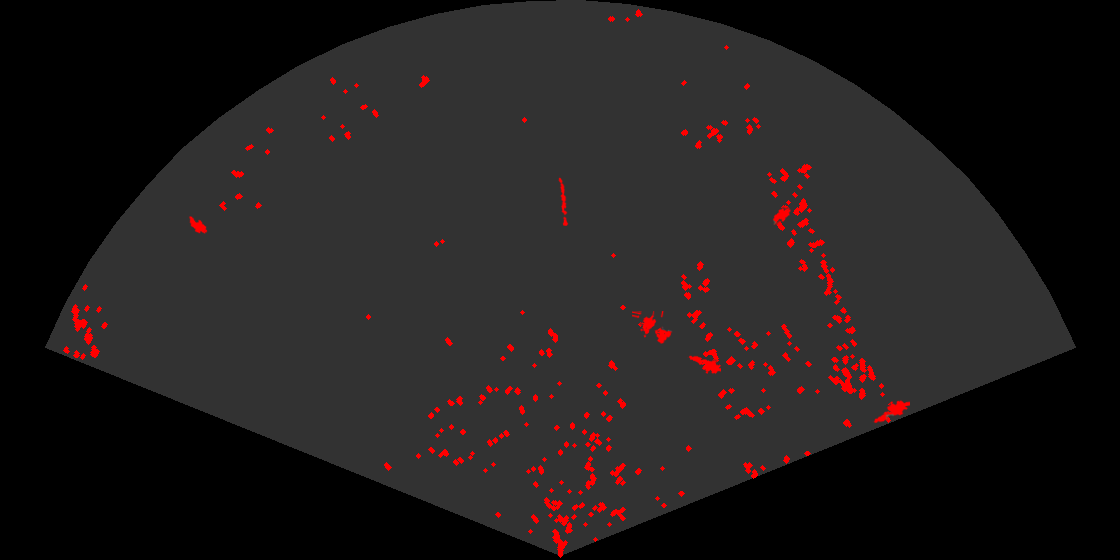AUV: (771, 206, 793, 227), (187, 215, 209, 235)
cage: (632, 311, 674, 345)
chain: (557, 176, 570, 226)
frogman: (871, 398, 910, 425), (687, 354, 721, 376)
